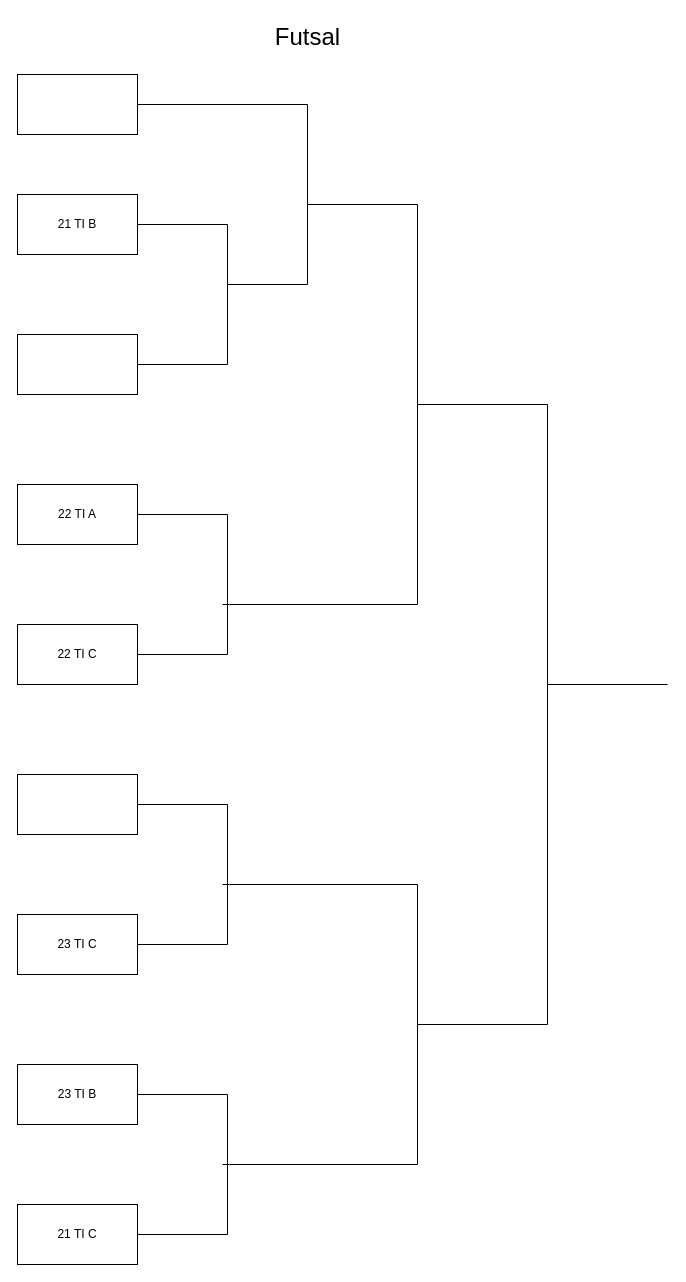
Image size: 686x1282. Some labels were removed from this diagram. The box of each missing label's shape, as (x1, y1, x2, y2) in pixels:
21 TI A: (16, 334, 138, 394)
22 TI B: (16, 774, 138, 834)
23 TI A: (16, 74, 138, 134)
